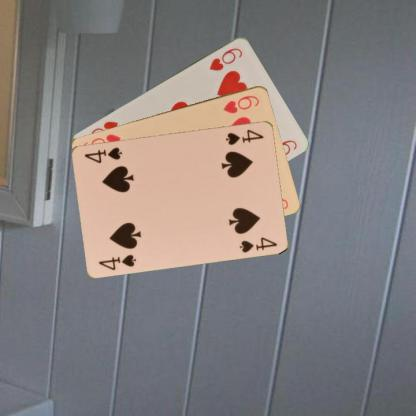4s: (223, 126, 265, 146), (96, 252, 138, 272)
6h: (206, 45, 244, 72), (220, 92, 261, 115)
